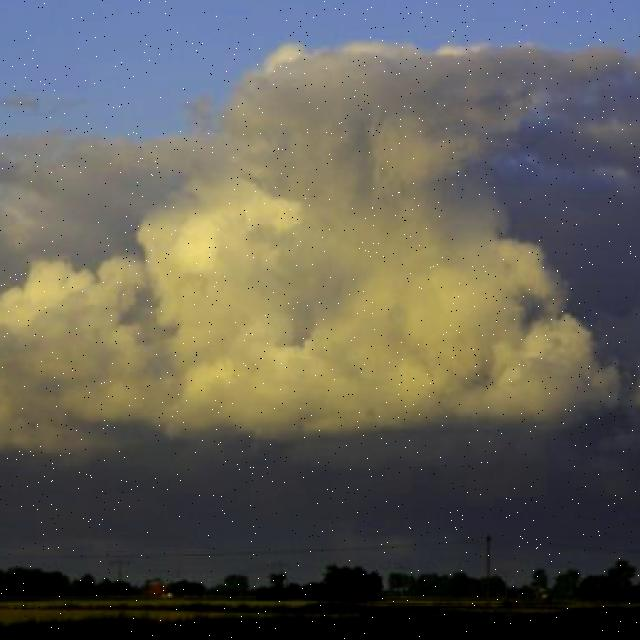Cu: (1, 11, 640, 464)
